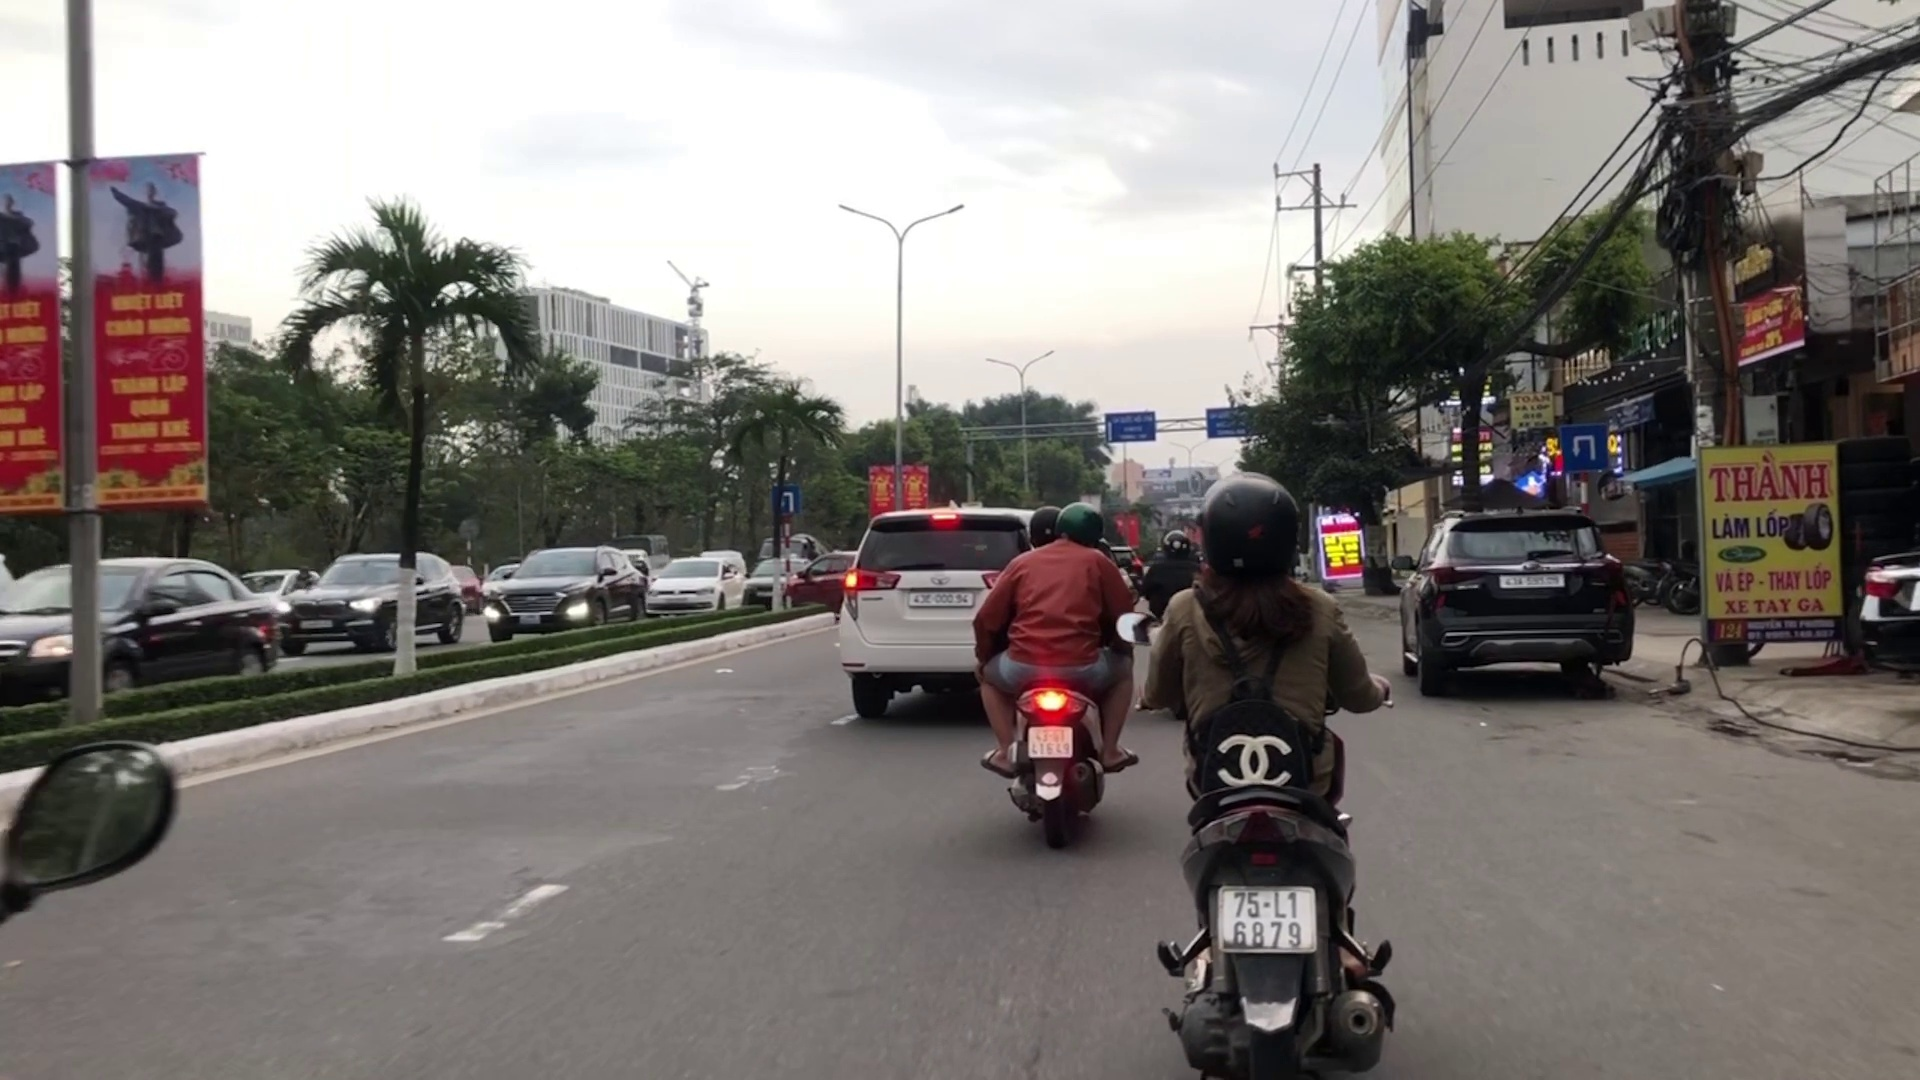Bien khac: (1556, 423, 1611, 477), (771, 487, 795, 516)
